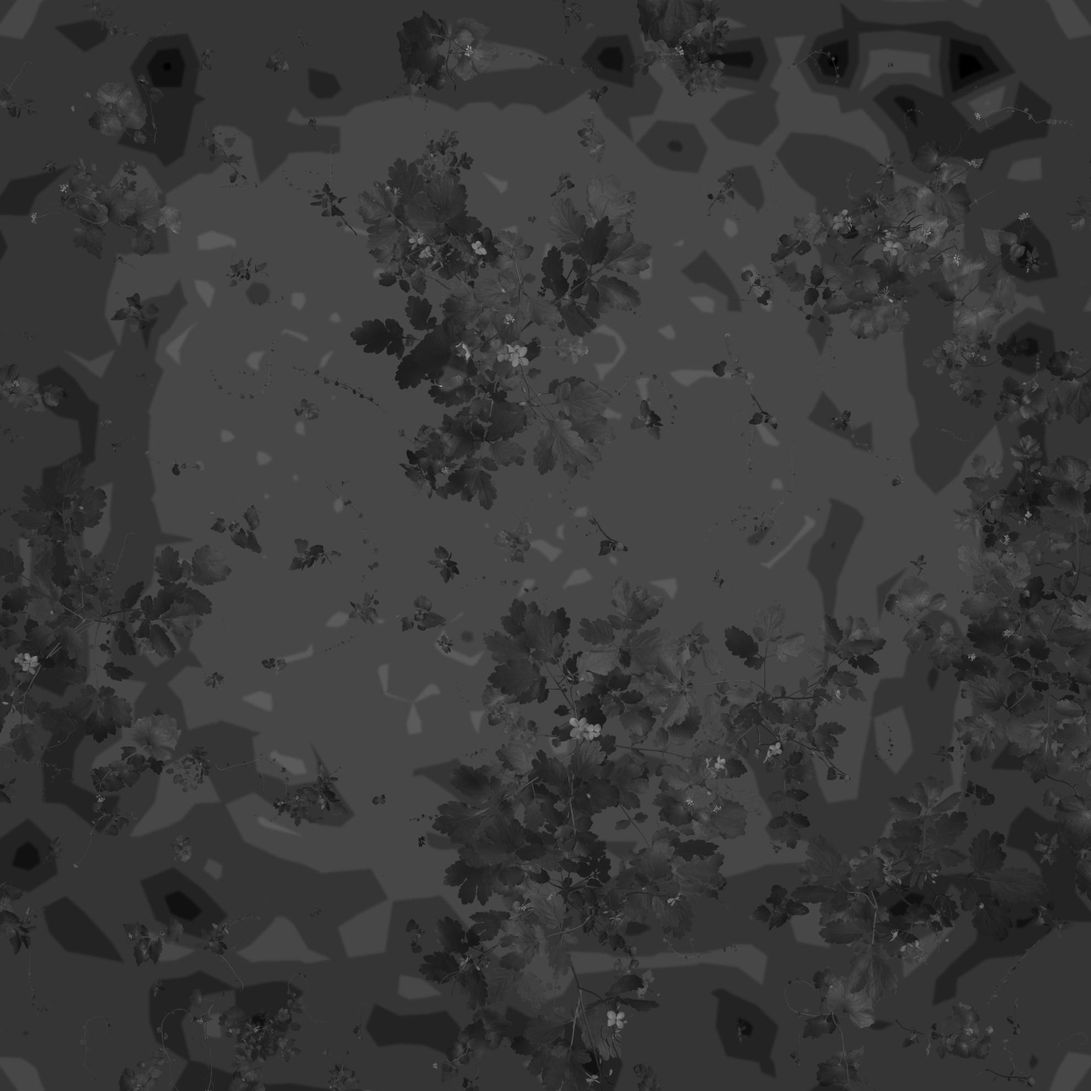landmine: (433, 338, 471, 391)
